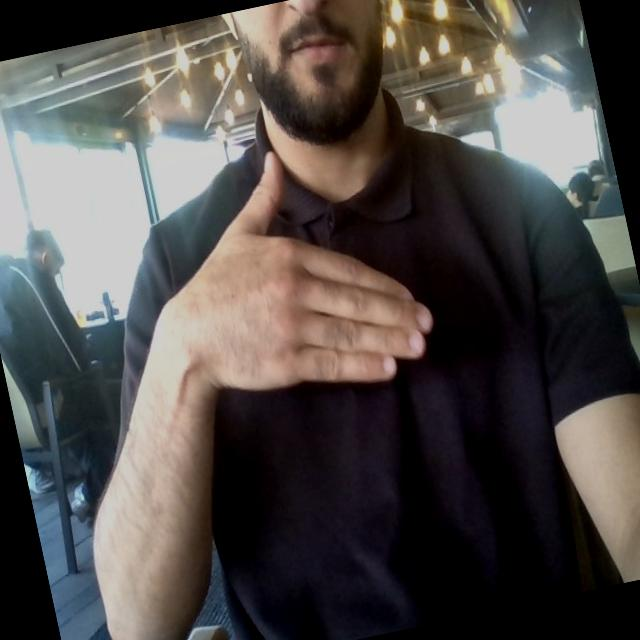Hand: (171, 154, 431, 390)
